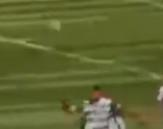ball: (48, 19, 64, 34)
